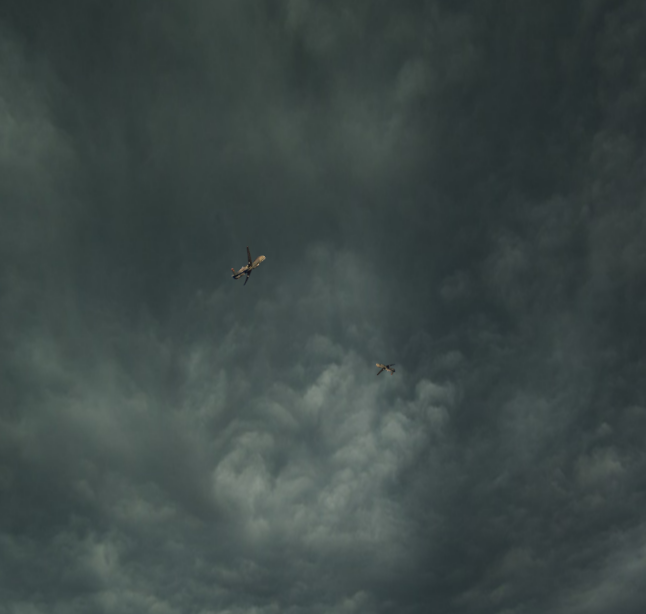military drone: (230, 246, 266, 286), (375, 362, 395, 375)
